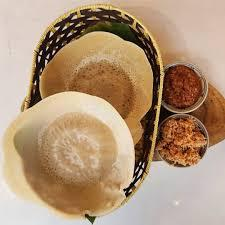Hoppers: (7, 30, 154, 224)
